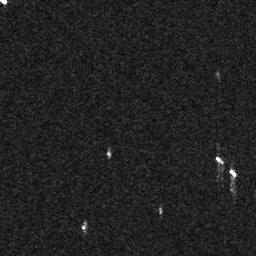ship: (229, 168, 239, 178), (215, 155, 224, 165)
